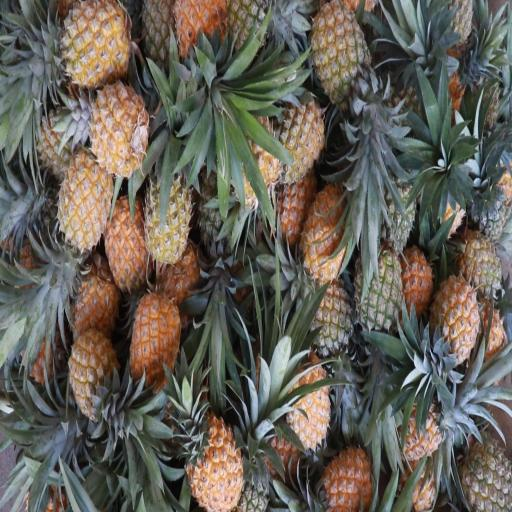------------------------------: (304, 0, 373, 114), (296, 262, 353, 368), (141, 151, 191, 266), (456, 219, 505, 311)
Pineapple - v8 v1: (35, 0, 129, 88), (178, 390, 241, 512), (86, 74, 149, 186), (47, 152, 109, 264), (269, 308, 328, 425), (298, 158, 356, 275), (124, 286, 180, 394), (429, 267, 480, 382), (270, 75, 324, 172), (101, 190, 153, 290), (68, 329, 118, 427), (312, 436, 378, 510), (68, 266, 118, 355)
